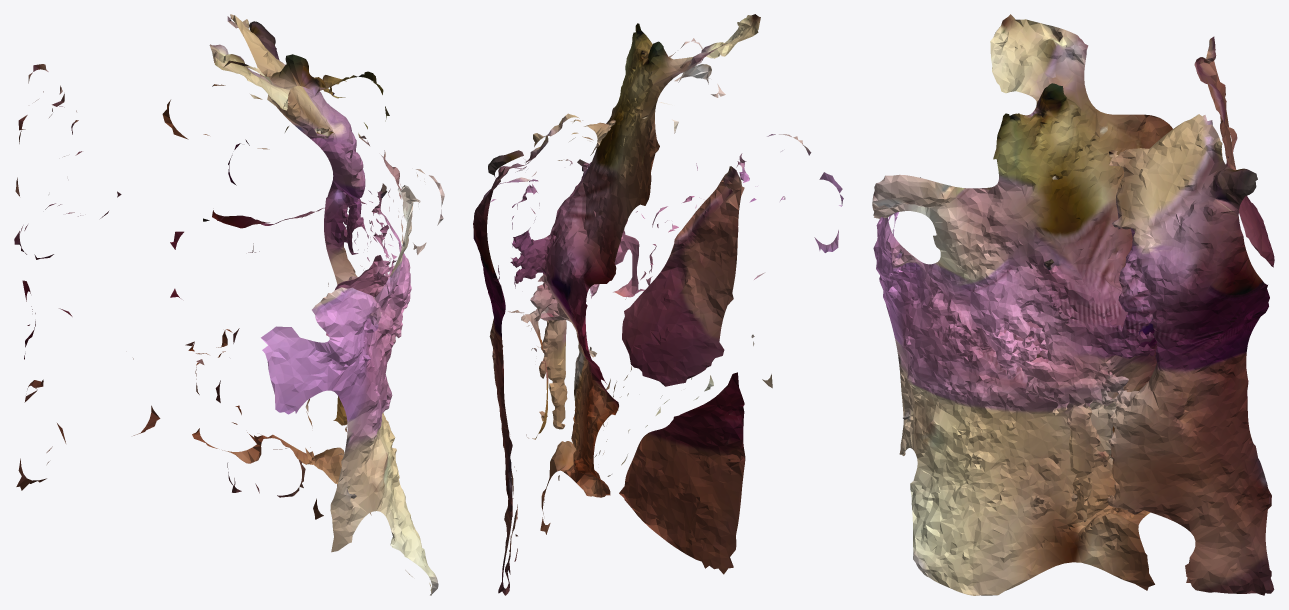
The model's file is body-landscape.glb.
3 views of the same model, side by side, from view 1: azimuth 30°, elevation 25°; view 2: azimuth 150°, elevation 25°; view 3: azimuth 270°, elevation 25° (orthographic). The views are drawn at different scales.
Bounding box in the file's own units: 0.2522 × 0.4463 × 0.3136.
Materials: 1 (1 with a texture image).
